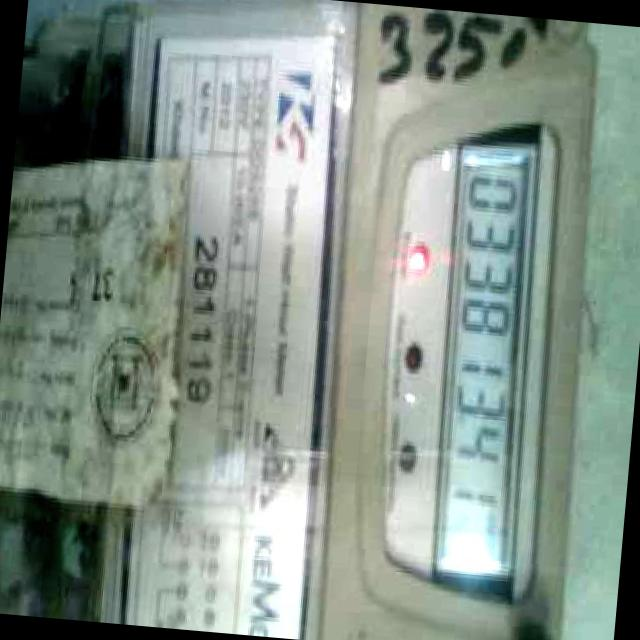LCD: (424, 140, 538, 586)
